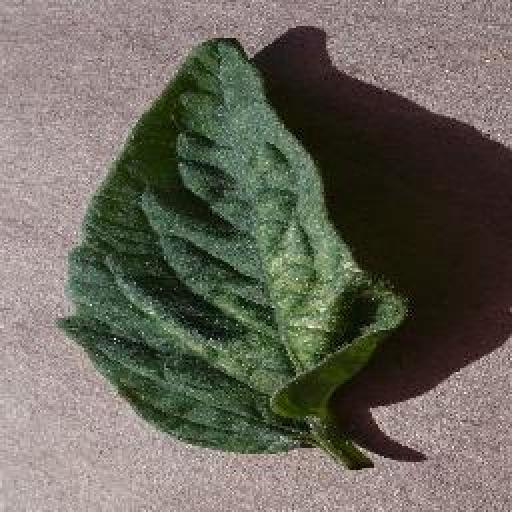Spider Mites: (52, 37, 408, 452)
